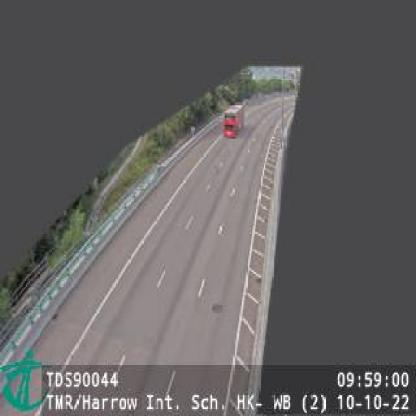Bus: (224, 103, 246, 137)
